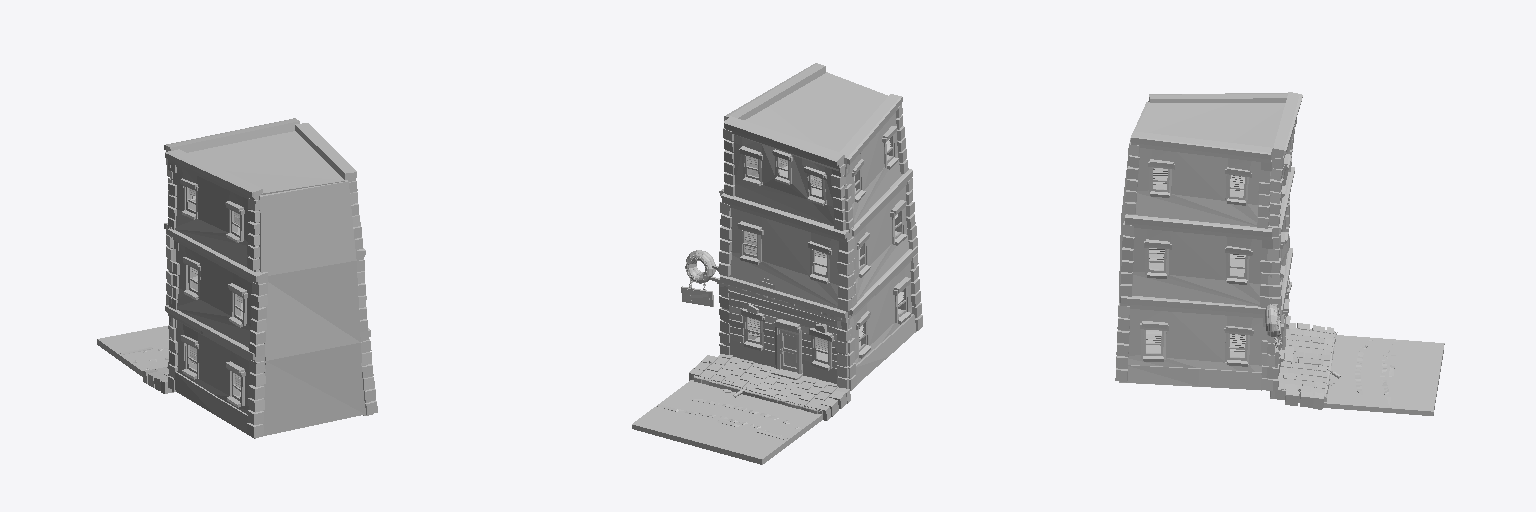
The model's file is residence.obj.
3 renders of one model, left to right at view 1: azimuth 30°, elevation 25°; view 2: azimuth 150°, elevation 25°; view 3: azimuth 270°, elevation 25°, orthographic.
Parts seen in each view (by area): view 1: group[number redacted], group[number redacted], group[number redacted], group[number redacted], group[number redacted], group[number redacted], group[number redacted], group[number redacted], group[number redacted], group[number redacted], group[number redacted]; view 2: group[number redacted], group[number redacted], group[number redacted], group[number redacted], group[number redacted], group[number redacted], group[number redacted], group[number redacted], group[number redacted], group[number redacted], group[number redacted], group[number redacted] (+7 smaller); view 3: group[number redacted], group[number redacted], group[number redacted], group[number redacted], group[number redacted], group[number redacted], group[number redacted], group[number redacted], group[number redacted].
Boxes of the visible parts, x1=… form: group[number redacted]: x1=259, y1=181, x2=364, y2=436; group[number redacted]: x1=165, y1=149, x2=262, y2=271; group[number redacted]: x1=167, y1=228, x2=267, y2=356; group[number redacted]: x1=165, y1=305, x2=265, y2=438; group[number redacted]: x1=188, y1=131, x2=347, y2=194; group[number redacted]: x1=97, y1=326, x2=195, y2=391; group[number redacted]: x1=295, y1=123, x2=362, y2=250; group[number redacted]: x1=164, y1=118, x2=299, y2=152; group[number redacted]: x1=174, y1=372, x2=249, y2=433; group[number redacted]: x1=360, y1=328, x2=377, y2=415; group[number redacted]: x1=356, y1=248, x2=367, y2=331; group[number redacted]: x1=719, y1=193, x2=854, y2=311; group[number redacted]: x1=632, y1=354, x2=838, y2=464; group[number redacted]: x1=744, y1=72, x2=887, y2=151; group[number redacted]: x1=840, y1=94, x2=908, y2=232; group[number redacted]: x1=851, y1=169, x2=917, y2=307; group[number redacted]: x1=837, y1=246, x2=922, y2=390; group[number redacted]: x1=732, y1=135, x2=838, y2=225; group[number redacted]: x1=724, y1=116, x2=844, y2=170; group[number redacted]: x1=770, y1=319, x2=802, y2=379; group[number redacted]: x1=724, y1=63, x2=825, y2=176; group[number redacted]: x1=720, y1=275, x2=847, y2=322; group[number redacted]: x1=855, y1=314, x2=916, y2=382; group[number redacted]: x1=1120, y1=214, x2=1272, y2=307; group[number redacted]: x1=1124, y1=131, x2=1272, y2=228; group[number redacted]: x1=1115, y1=296, x2=1273, y2=390; group[number redacted]: x1=1275, y1=328, x2=1444, y2=415; group[number redacted]: x1=1135, y1=102, x2=1284, y2=147; group[number redacted]: x1=1126, y1=365, x2=1261, y2=390; group[number redacted]: x1=1267, y1=167, x2=1294, y2=309; group[number redacted]: x1=1148, y1=93, x2=1287, y2=171; group[number redacted]: x1=1272, y1=92, x2=1302, y2=158.
Size of the model in its own units: 3.13 by 4.51 by 5.08.